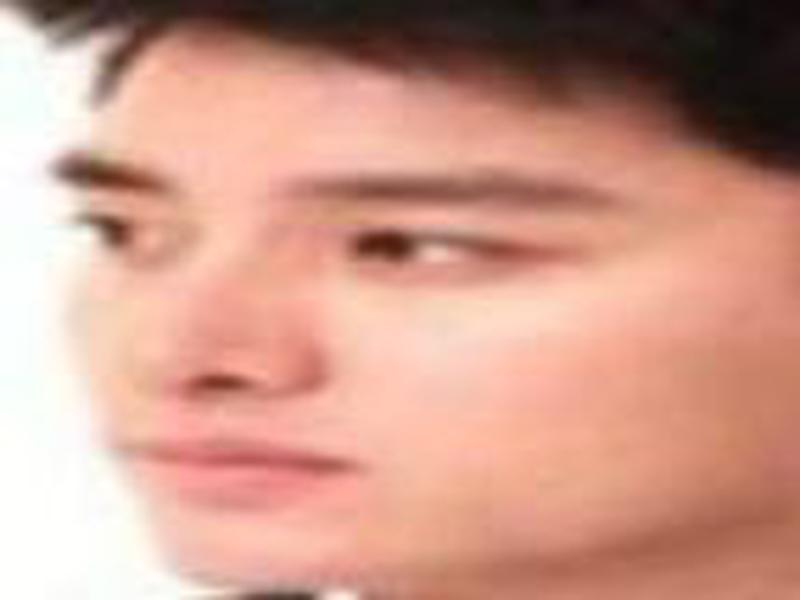without_mask: (61, 25, 795, 593)
